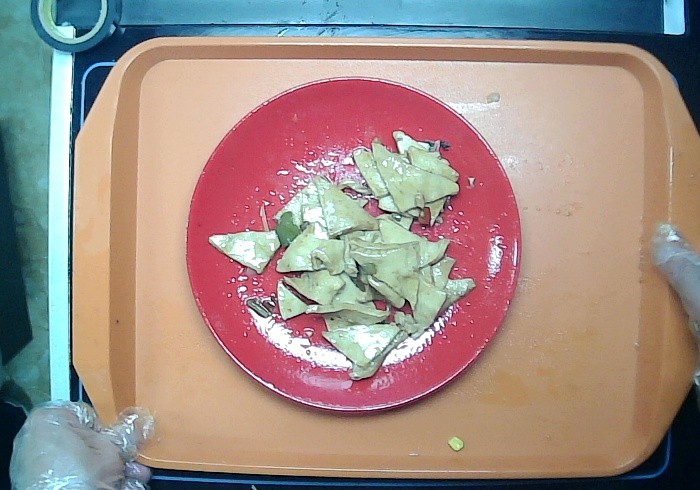HZYJPL-Hong_Se_Yuan_Pan: (185, 70, 526, 417)
